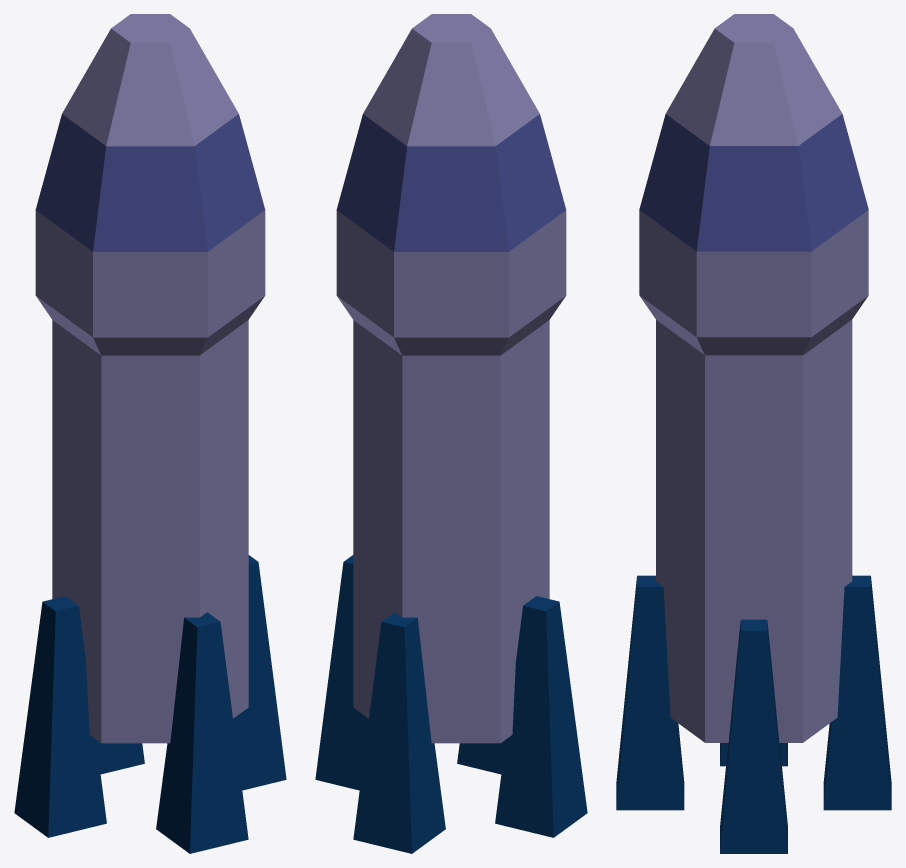
The model's file is Missle.fbx.
3 views of the same model, side by side, from view 1: azimuth 30°, elevation 25°; view 2: azimuth 150°, elevation 25°; view 3: azimuth 270°, elevation 25° (orthographic).
Visible parts, largest first — view 1: Circle, Circle.001, Plane, Plane.002, Plane.003, Plane.001; view 2: Circle, Circle.001, Plane.001, Plane.002, Plane.003, Plane; view 3: Circle, Circle.001, Plane.003, Plane, Plane.001.
Part boxes in pixels (x1,y1,x2,y2): Circle: (35, 14, 265, 743); Circle.001: (35, 114, 265, 251); Plane: (156, 612, 248, 853); Plane.002: (14, 596, 106, 837); Plane.003: (233, 555, 286, 790); Plane.001: (96, 740, 144, 774); Circle: (336, 14, 566, 743); Circle.001: (336, 114, 566, 251); Plane.001: (353, 612, 445, 853); Plane.002: (495, 596, 587, 837); Plane.003: (315, 555, 368, 790); Plane: (457, 740, 505, 774); Circle: (639, 14, 868, 742); Circle.001: (639, 114, 868, 251); Plane.003: (720, 619, 787, 853); Plane: (616, 575, 684, 810); Plane.001: (823, 575, 891, 810).
Size of the model in its own units: 280 by 863 by 280.
